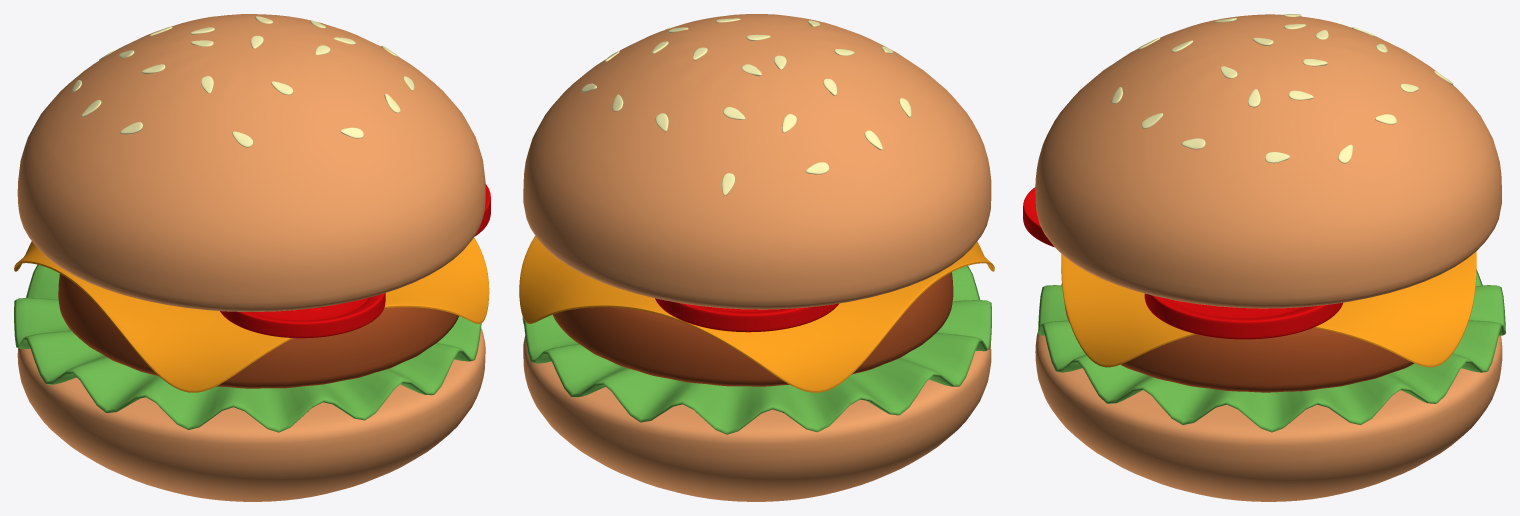
File: Hamburguesa.fbx
3 views of the same model, side by side, from view 1: azimuth 30°, elevation 25°; view 2: azimuth 150°, elevation 25°; view 3: azimuth 270°, elevation 25° (orthographic).
Parts seen in each view (by area): view 1: BreadTop, BreadBottom, Letuce, Plano, meat, tomato.001; view 2: BreadTop, BreadBottom, Letuce, Plano, meat, tomato.002; view 3: BreadTop, BreadBottom, Letuce, Plano, meat, tomato, tomato.001.
Part boxes in pixels (x1=…): BreadTop: x1=17, y1=14, x2=485, y2=311; BreadBottom: x1=17, y1=328, x2=485, y2=501; Letuce: x1=14, y1=264, x2=481, y2=432; Plano: x1=14, y1=237, x2=489, y2=392; meat: x1=58, y1=274, x2=458, y2=388; tomato.001: x1=220, y1=293, x2=385, y2=338; BreadTop: x1=523, y1=14, x2=991, y2=309; BreadBottom: x1=523, y1=335, x2=991, y2=501; Letuce: x1=522, y1=265, x2=991, y2=434; Plano: x1=519, y1=236, x2=994, y2=392; meat: x1=553, y1=272, x2=953, y2=386; tomato.002: x1=655, y1=298, x2=839, y2=332; BreadTop: x1=1035, y1=14, x2=1501, y2=308; BreadBottom: x1=1035, y1=332, x2=1502, y2=501; Letuce: x1=1038, y1=270, x2=1505, y2=432; Plano: x1=1061, y1=251, x2=1476, y2=367; meat: x1=1065, y1=306, x2=1414, y2=392; tomato: x1=1144, y1=293, x2=1342, y2=339; tomato.001: x1=1023, y1=187, x2=1054, y2=247.
Size of the model in its own units: 10.06 by 9.91 by 10.08.
